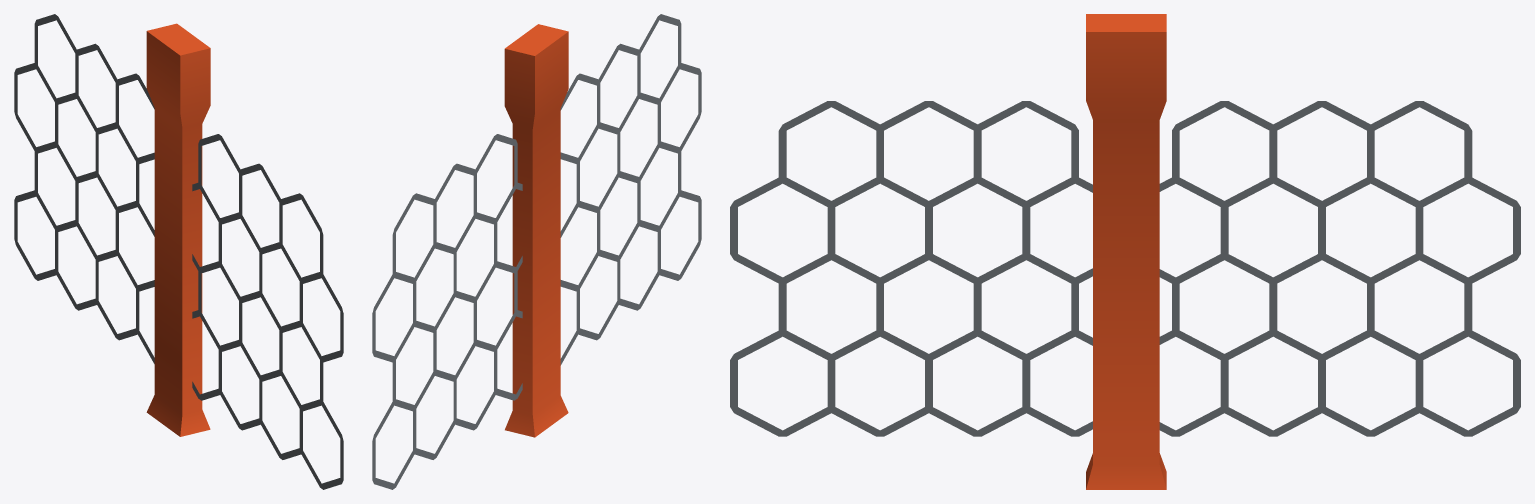
Rendered from Tejido_02.fbx.
The picture shows the model from 3 angles, left to right: view 1: azimuth 30°, elevation 25°; view 2: azimuth 150°, elevation 25°; view 3: azimuth 270°, elevation 25°; orthographic projection. The views are drawn at different scales.
Parts seen in each view (by area): view 1: Tejido_02; view 2: Tejido_02; view 3: Tejido_02.
Boxes of the visible parts, x1=… form: Tejido_02: x1=14, y1=14, x2=343, y2=489; Tejido_02: x1=372, y1=14, x2=701, y2=489; Tejido_02: x1=730, y1=14, x2=1520, y2=489.
Size of the model in its own units: 37.51 by 449 by 703.
